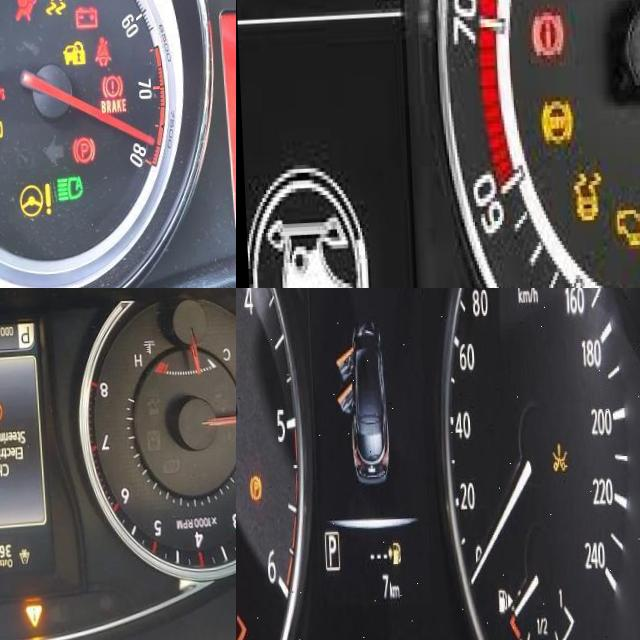Electronic Power Steering: (13, 183, 51, 223), (0, 397, 9, 432)
Seat Belt: (88, 39, 108, 68)
